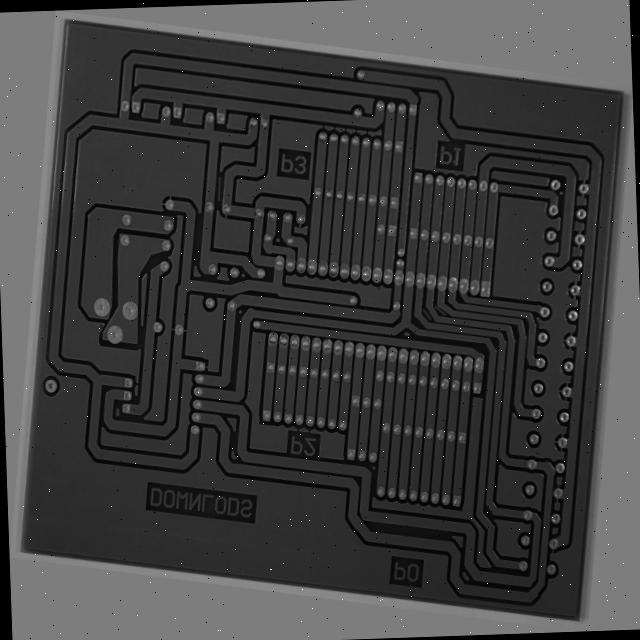spurious_copper: (186, 168, 196, 204), (441, 277, 457, 292), (426, 285, 442, 300)
